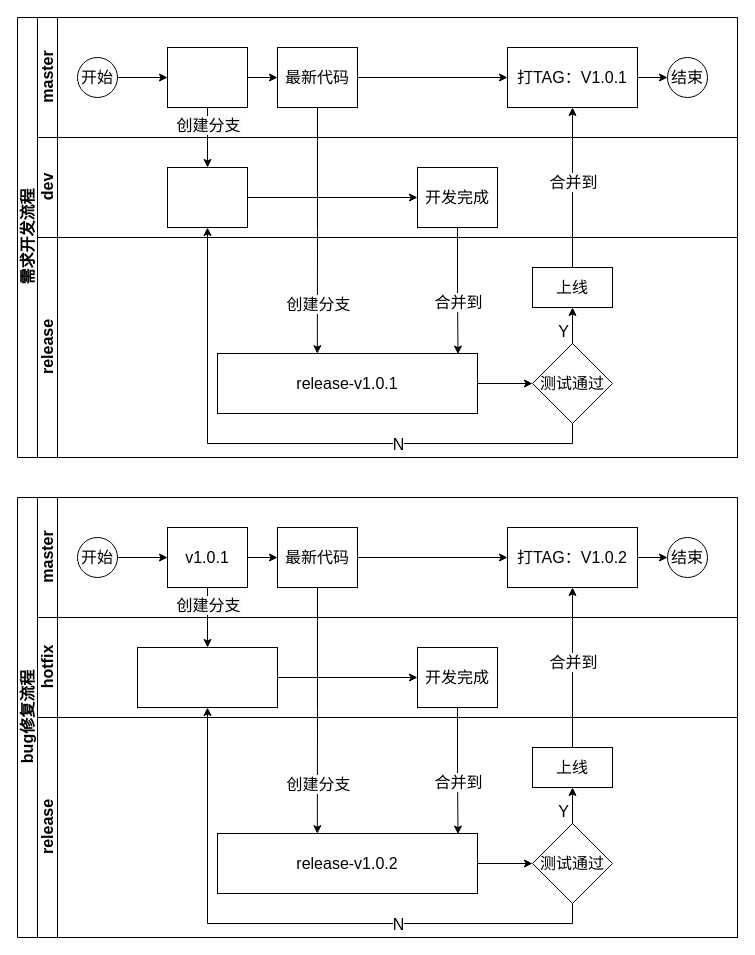
This 755x955 diagram has some shape labels left out. Here are the shapes that lost their labels. From the top down, the centre of each, then its label:
point 207,77: v1.0.0
point 207,197: dev-v1.0.1
point 207,677: hotfix-v1.0.2
